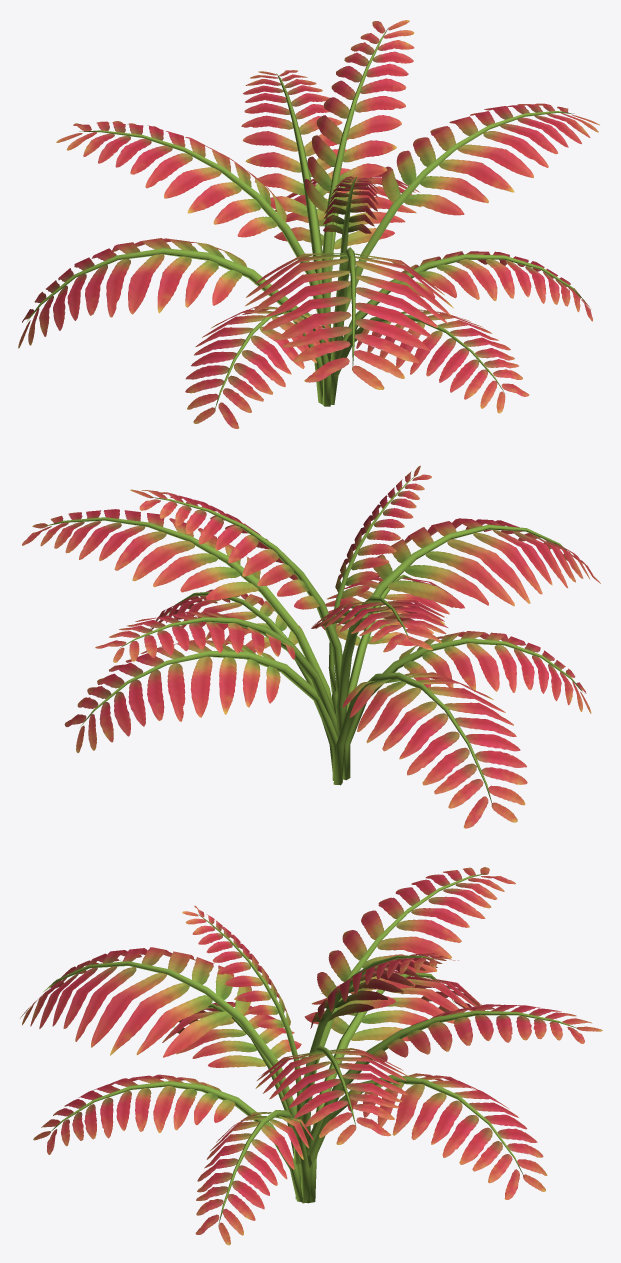
Rendered from P_RedFern02.obj.
3 renders of one model, top to bottom at view 1: azimuth 30°, elevation 25°; view 2: azimuth 150°, elevation 25°; view 3: azimuth 270°, elevation 25°, orthographic.
Size of the model in its own units: 6.33 by 3.41 by 5.94.
